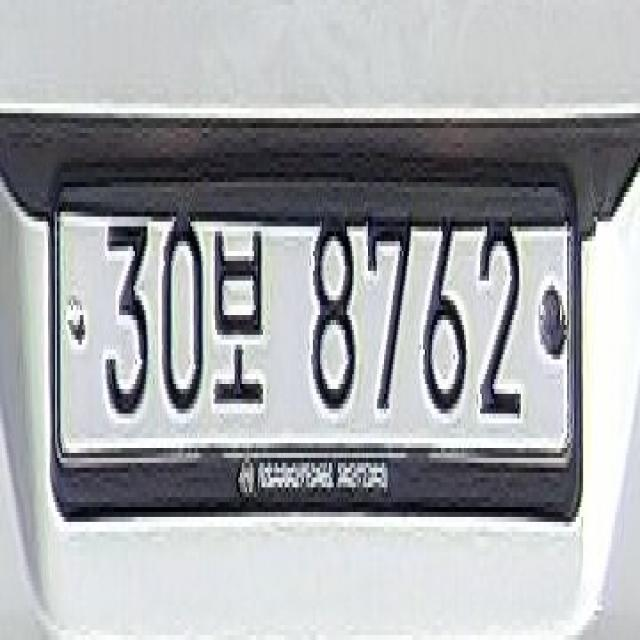0: (160, 216, 204, 414)
2: (477, 216, 522, 418)
3: (103, 212, 153, 428)
6: (420, 212, 471, 418)
7: (367, 206, 412, 414)
8: (311, 212, 356, 414)
bo: (210, 222, 270, 418)
license_plate: (46, 152, 580, 468)
